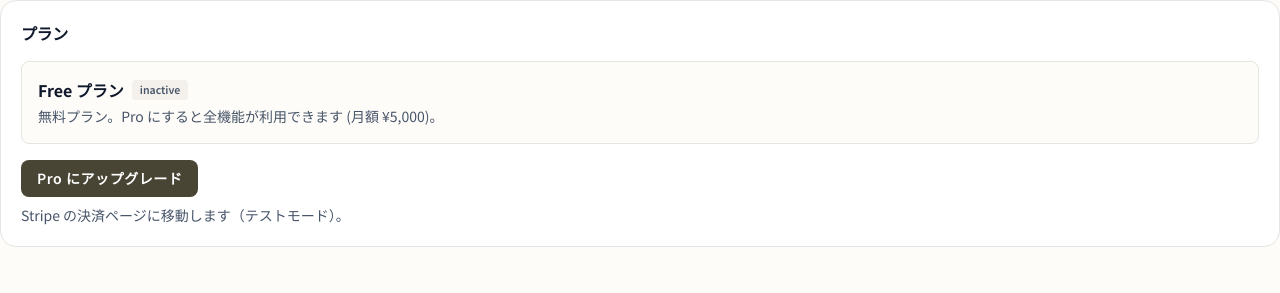
S-A03 PlanSection (GAP-021) › shows a 503 upgrade failure honestly
Click the button "Pro にアップグレード".
click(110, 178)  # box x1=21 y1=160 x2=198 y2=197
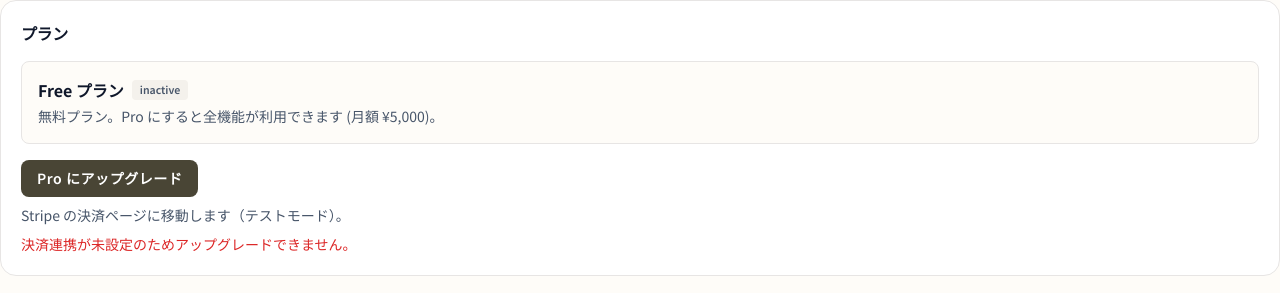
Result: the message reads "決済連携が未設定のためアップグレードできません。" at x1=21 y1=234 x2=357 y2=254
